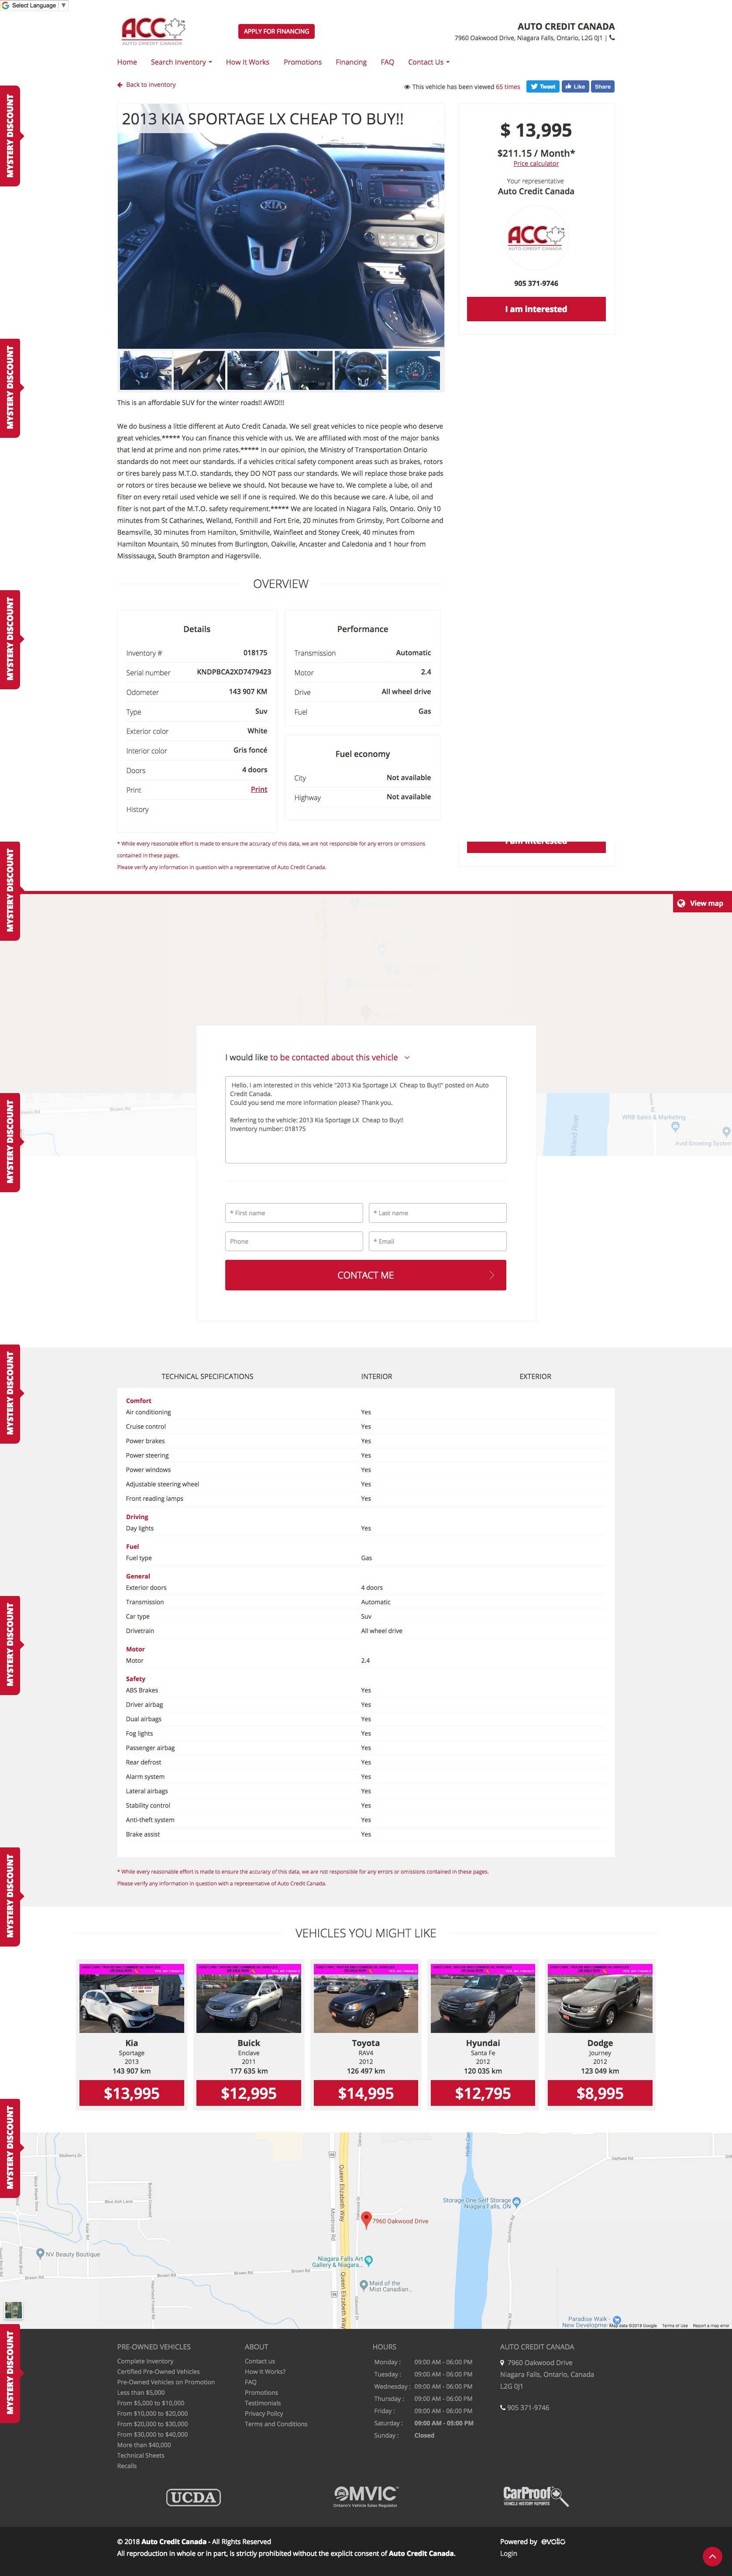car: (432, 350, 443, 393)
